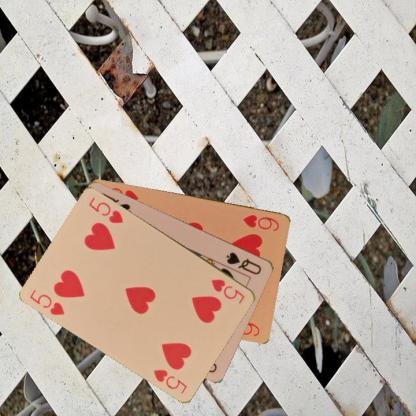5h: (27, 286, 67, 316), (209, 276, 246, 305)
6h: (240, 212, 281, 232)
Qs: (223, 249, 263, 276)
